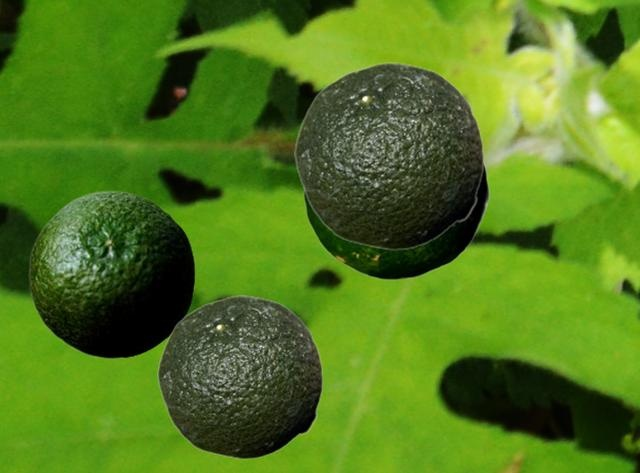calamansi: (294, 62, 483, 249), (28, 190, 194, 358), (157, 295, 322, 458), (303, 157, 489, 279)
